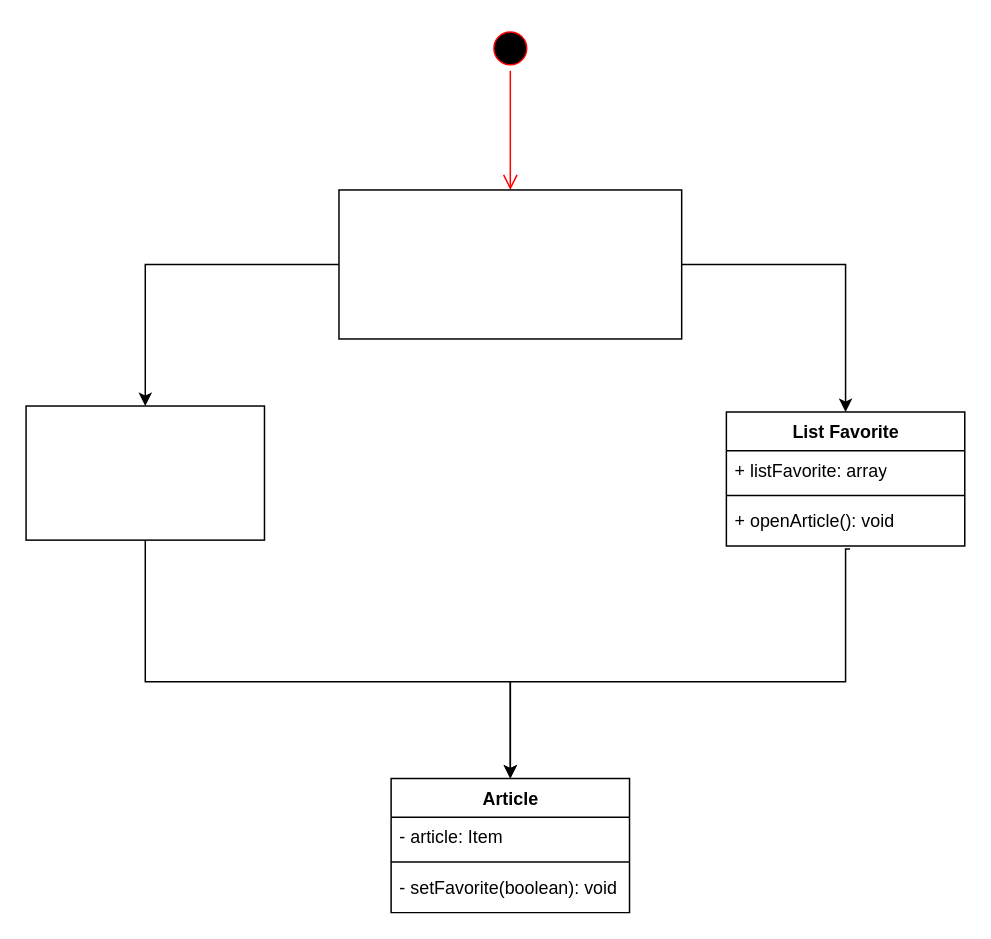
Some shapes in this 991 by 939 pixel diagram are drawn without their labels. Each missing label, with the box of its shape:
List Category + listCategory: array + openArticle(): void: (25, 405, 264, 540)
Menu + openListFavorite(): void + openListCategory():void: (337, 188, 682, 339)
